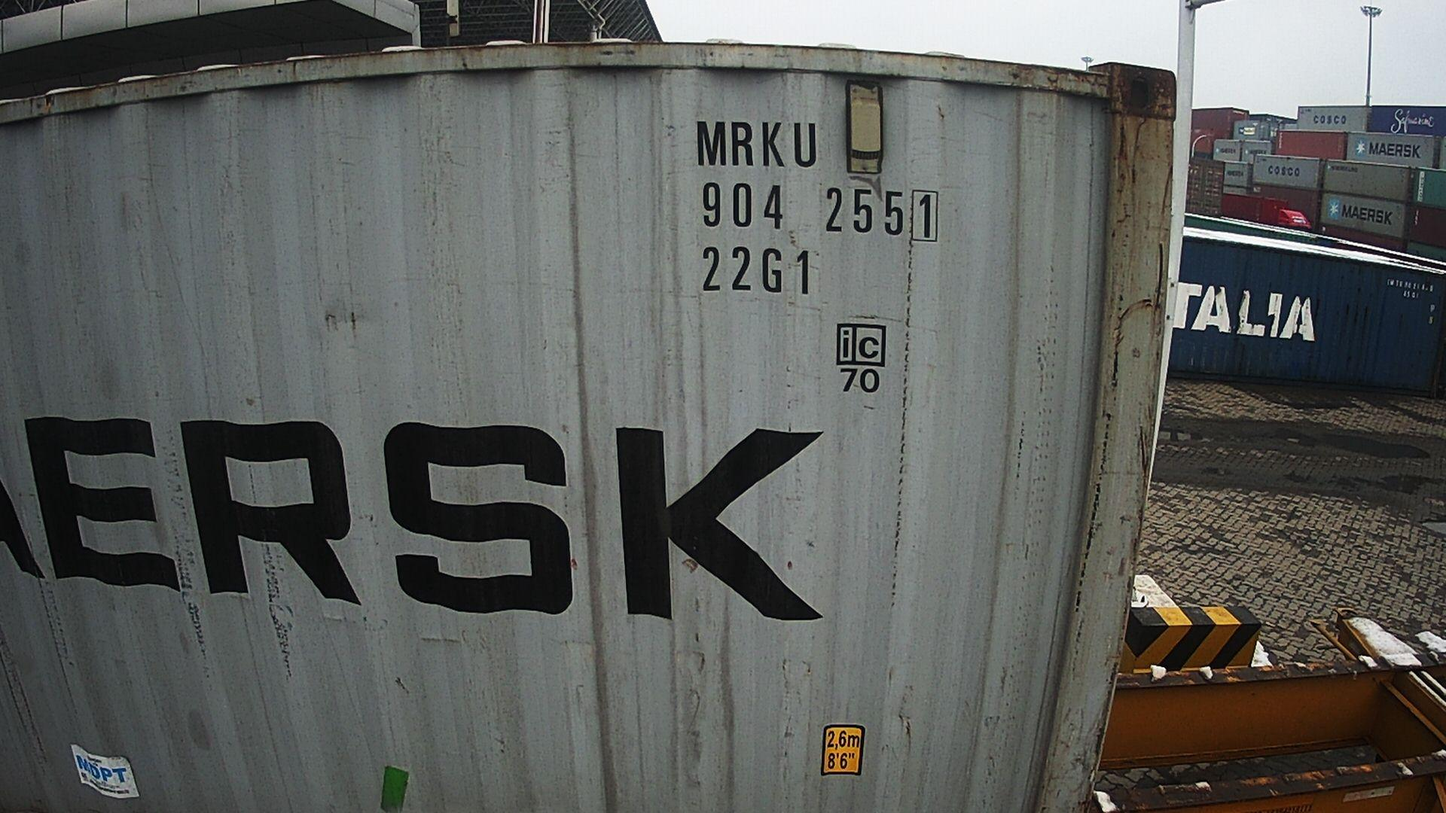container-numbers: (695, 178, 946, 245), (691, 117, 823, 172), (697, 242, 817, 299)
